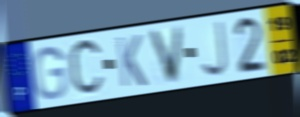2: (232, 14, 269, 78)
C: (66, 35, 106, 101)
G: (32, 44, 69, 102)
J: (199, 19, 230, 79)
K: (114, 33, 149, 89)
V: (146, 24, 186, 87)
